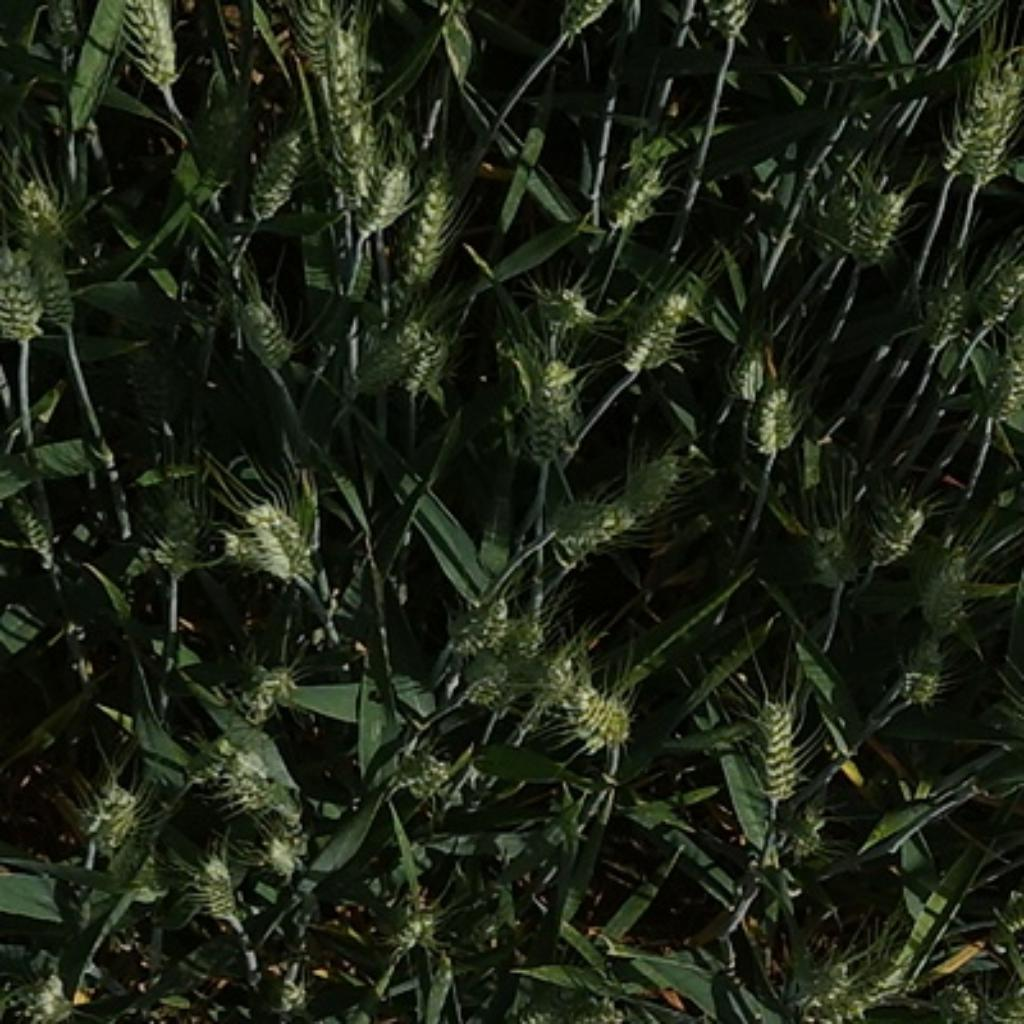0-0: (727, 670, 808, 808), (593, 455, 706, 552), (931, 56, 1011, 181), (611, 266, 704, 373), (404, 158, 476, 294), (225, 486, 320, 581), (970, 43, 1024, 194), (521, 352, 586, 469), (515, 632, 595, 727), (207, 737, 295, 823), (957, 314, 1024, 424), (908, 540, 983, 637), (66, 773, 151, 857), (839, 184, 916, 273), (346, 316, 425, 399), (113, 0, 183, 92), (340, 166, 419, 245), (857, 496, 939, 570), (371, 729, 455, 801), (563, 673, 634, 757), (366, 893, 453, 960), (792, 963, 888, 1023), (394, 325, 460, 412), (331, 105, 380, 215), (747, 376, 811, 460), (230, 655, 307, 724), (249, 128, 304, 221), (232, 291, 300, 365), (610, 158, 674, 235), (324, 31, 375, 126), (890, 627, 952, 704), (186, 847, 248, 921), (967, 248, 1024, 327), (777, 805, 841, 875), (455, 592, 513, 666), (10, 963, 81, 1022), (158, 493, 206, 580), (529, 273, 591, 340), (719, 337, 778, 407), (290, 3, 345, 73), (923, 964, 987, 1023), (19, 177, 72, 248), (552, 495, 614, 555), (449, 669, 517, 719), (265, 957, 318, 1021), (0, 250, 36, 342), (800, 519, 854, 580), (2, 488, 53, 552), (256, 823, 307, 882), (508, 615, 560, 667), (926, 289, 964, 355), (40, 264, 76, 328)
